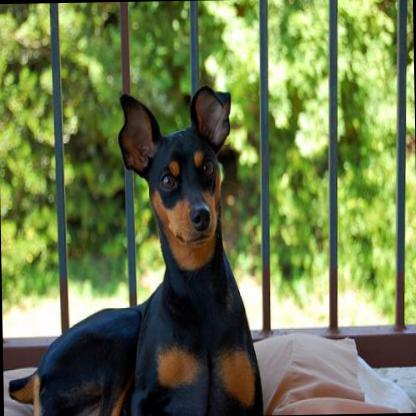miniature_pinscher: (0, 80, 261, 414)
